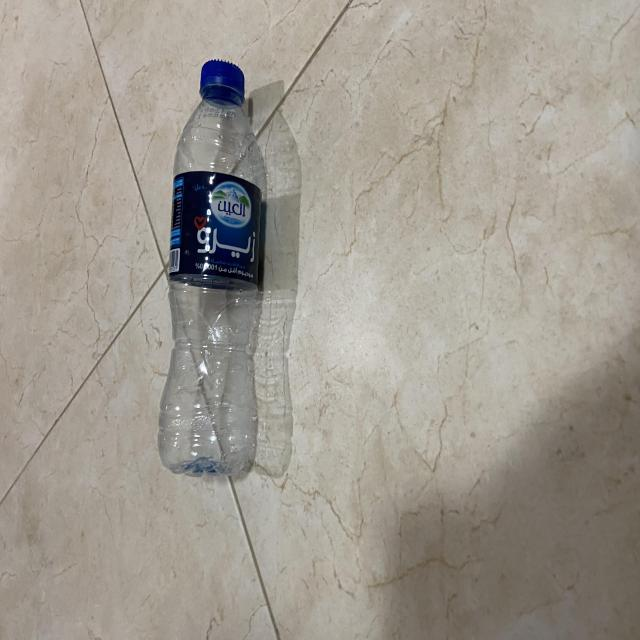plastic: (156, 53, 265, 481)
